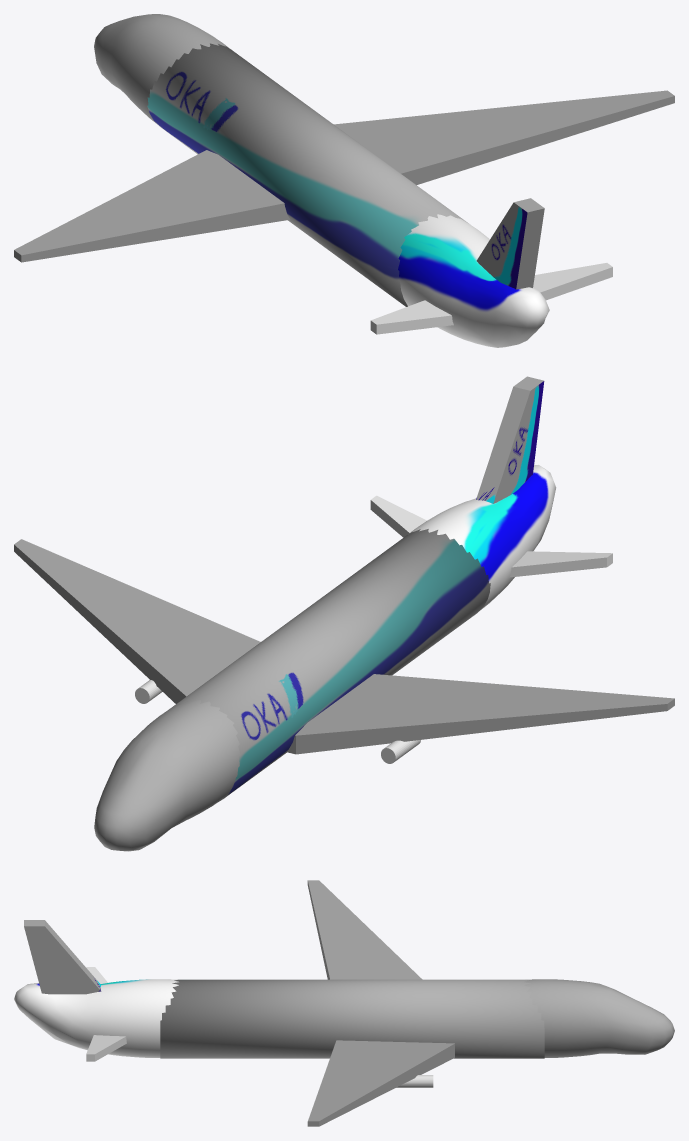
File: Air_plane_OKA.glb
The picture shows the model from 3 angles, top to bottom: view 1: azimuth 30°, elevation 25°; view 2: azimuth 150°, elevation 25°; view 3: azimuth 270°, elevation 25°; orthographic projection. The views are drawn at different scales.
Parts seen in each view (by area): view 1: 円柱.002, 立方体, 球, 球.001, 立方体.002, 立方体.001; view 2: 立方体, 円柱.002, 球.001, 球, 立方体.002, 立方体.001, 円柱.001; view 3: 円柱.002, 立方体, 球.001, 球, 立方体.002, 立方体.001.
Boxes of the visible parts, left/top/right/bottom form: 円柱.002: left=147, top=43, right=468, bottom=306; 立方体: left=14, top=90, right=674, bottom=262; 球: left=398, top=214, right=549, bottom=347; 球.001: left=94, top=14, right=229, bottom=124; 立方体.002: left=476, top=198, right=544, bottom=289; 立方体.001: left=370, top=263, right=612, bottom=334; 立方体: left=14, top=539, right=674, bottom=754; 円柱.002: left=170, top=529, right=490, bottom=800; 球.001: left=94, top=700, right=240, bottom=851; 球: left=408, top=465, right=556, bottom=610; 立方体.002: left=476, top=376, right=544, bottom=503; 立方体.001: left=370, top=495, right=612, bottom=577; 円柱.001: left=135, top=680, right=420, bottom=763; 円柱.002: left=160, top=979, right=544, bottom=1058; 立方体: left=307, top=880, right=454, bottom=1126; 球.001: left=524, top=979, right=674, bottom=1057; 球: left=14, top=979, right=178, bottom=1057; 立方体.002: left=24, top=920, right=101, bottom=994; 立方体.001: left=86, top=967, right=126, bottom=1061.
Size of the model in its own units: 14.44 by 3.68 by 16.73.
Materials: 5 (4 with a texture image).
